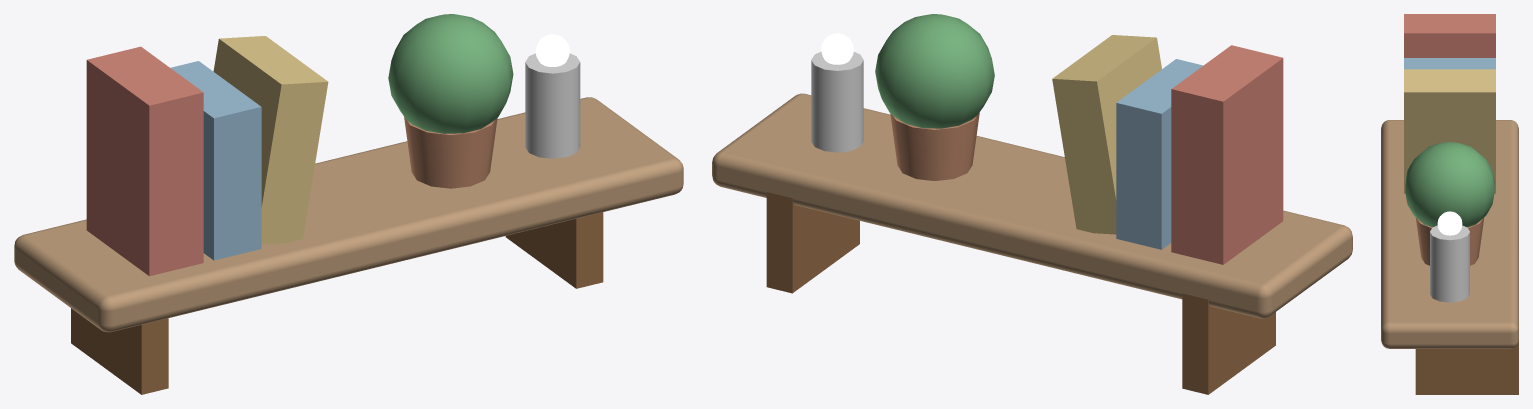
Rendered from furn_shelf_ph.glb.
3 renders of one model, left to right at view 1: azimuth 30°, elevation 25°; view 2: azimuth 150°, elevation 25°; view 3: azimuth 270°, elevation 25°, orthographic. The views are drawn at different scales.
Visible parts, largest first — view 1: furn_shelf; view 2: furn_shelf; view 3: furn_shelf.
Part boxes in pixels (x1,y1,x2,y2): furn_shelf: (14,14,683,394); furn_shelf: (712,14,1352,394); furn_shelf: (1381,14,1518,394).
Size of the model in its own units: 0.86 by 0.415 by 0.24.
